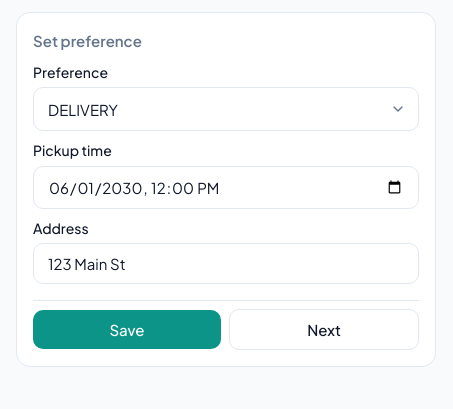
Test: Summary (on Preference page) › reflects backend order data when loaded
The width and height of the screenshot is (453, 409).
Note: Navigate to step 2 to see order details
Click the button "Next" at (324, 330), box [229,309,419,350]
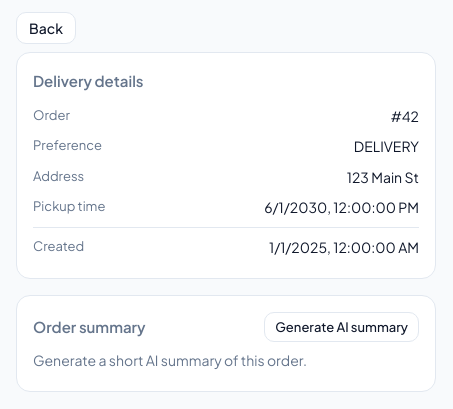
Expected: the text "#42" is shown, [391,105,419,127]
Expected: the text "DELIVERY" is shown, [354,135,419,158]
Expected: the text "123 Main St" is shown, [347,166,419,188]
